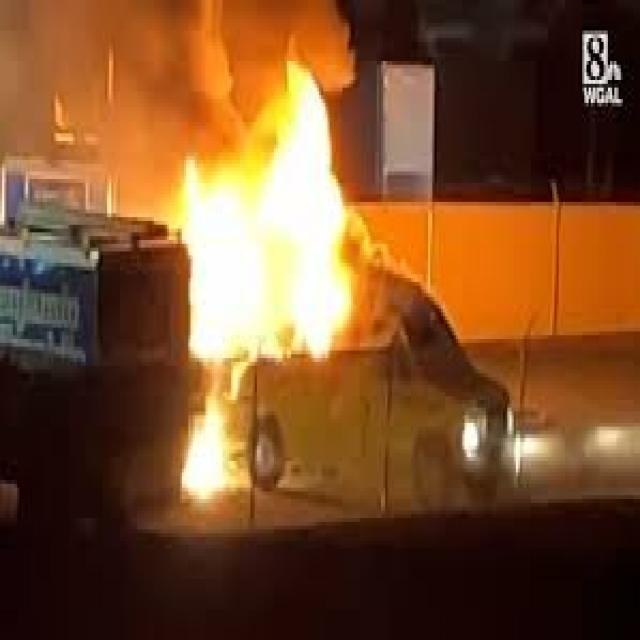fire: (182, 69, 351, 358), (182, 400, 231, 510)
smoke: (2, 4, 360, 95)
